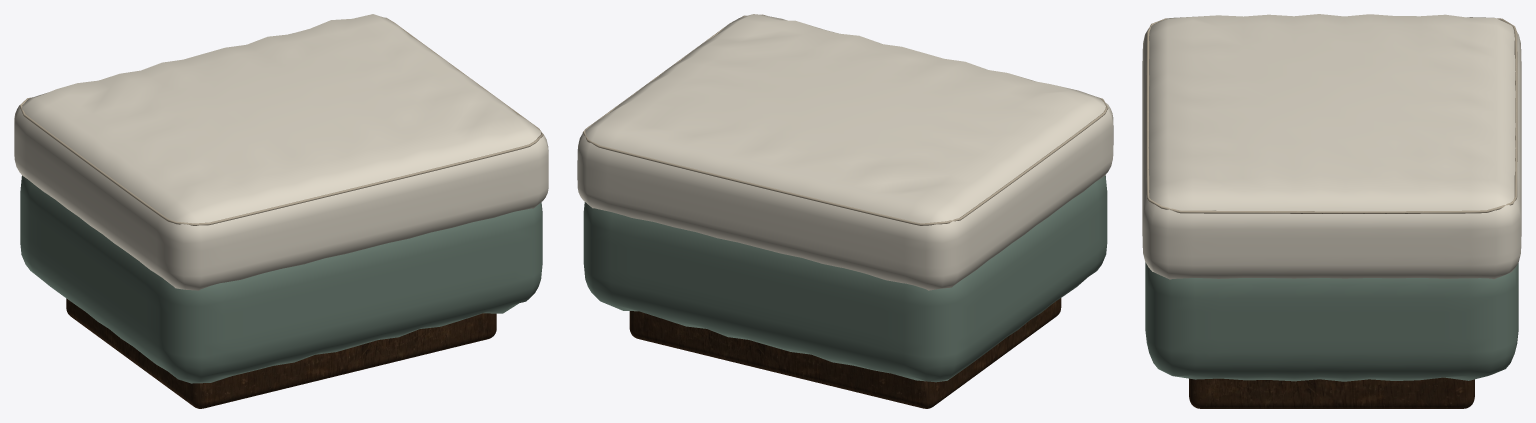
Rendered from lounge-ottoman.glb.
The picture shows the model from 3 angles, left to right: view 1: azimuth 30°, elevation 25°; view 2: azimuth 150°, elevation 25°; view 3: azimuth 270°, elevation 25°; orthographic projection. The views are drawn at different scales.
Visible parts, largest first — view 1: linen_surfaces, velvet_surfaces, walnut_surfaces, welt_surfaces; view 2: linen_surfaces, velvet_surfaces, walnut_surfaces, welt_surfaces; view 3: linen_surfaces, velvet_surfaces, walnut_surfaces, welt_surfaces.
Boxes of the visible parts, x1,y1,x2,y2 form: linen_surfaces: (14,14,548,290); velvet_surfaces: (20,175,542,383); walnut_surfaces: (66,298,496,408); welt_surfaces: (19,17,543,225); linen_surfaces: (577,14,1113,290); velvet_surfaces: (583,175,1107,382); walnut_surfaces: (629,298,1061,408); welt_surfaces: (582,14,1108,225); linen_surfaces: (1142,14,1521,279); velvet_surfaces: (1145,262,1518,381); walnut_surfaces: (1189,377,1474,408); welt_surfaces: (1146,18,1517,213).
Bounding box in the file's own units: 0.8 × 0.449 × 0.65.
Materials: 4 (1 with a texture image).
